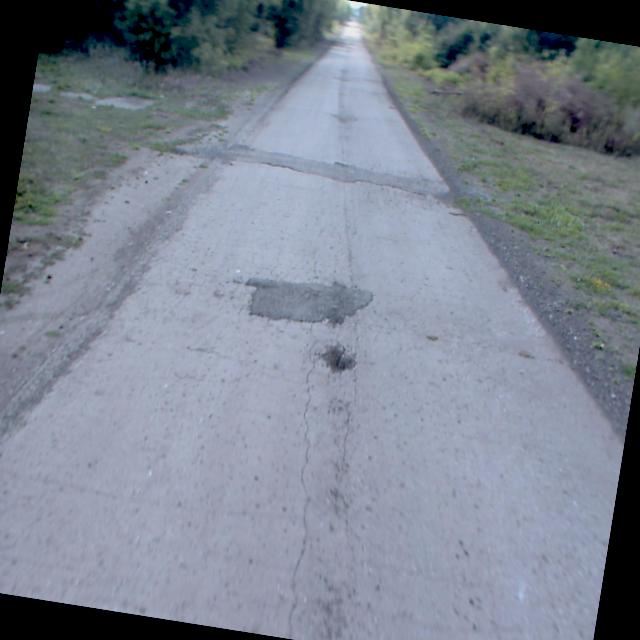road: (0, 21, 624, 640)
